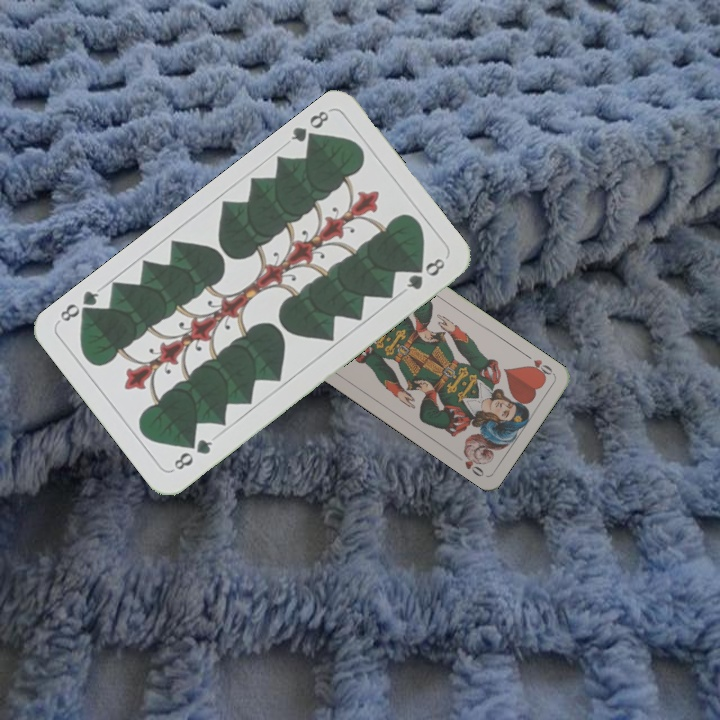G8: (286, 106, 332, 149), (169, 434, 216, 473)
HO: (521, 350, 556, 380)
